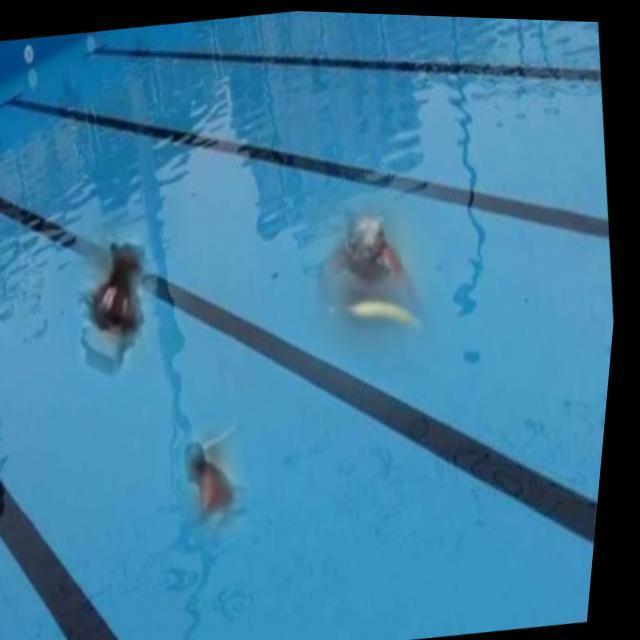swimming: (321, 205, 442, 323), (73, 237, 188, 360), (169, 415, 259, 532)
